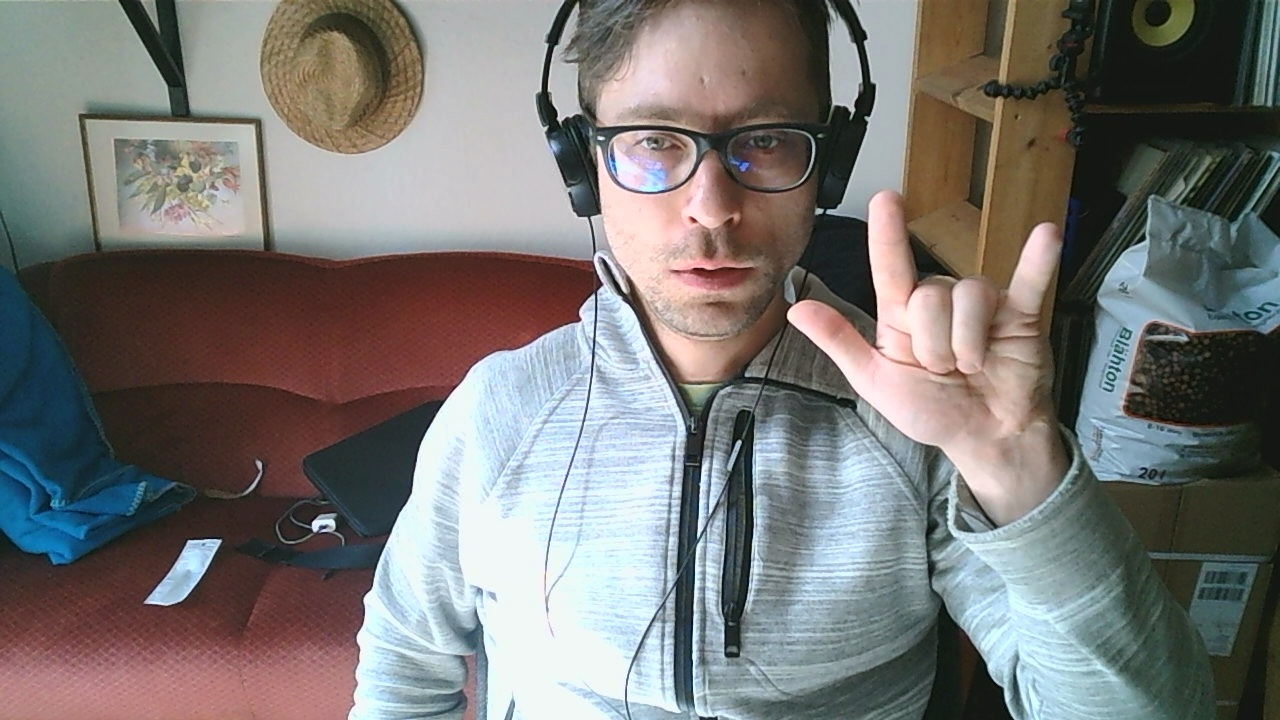iloveyou: (785, 186, 1063, 455)
